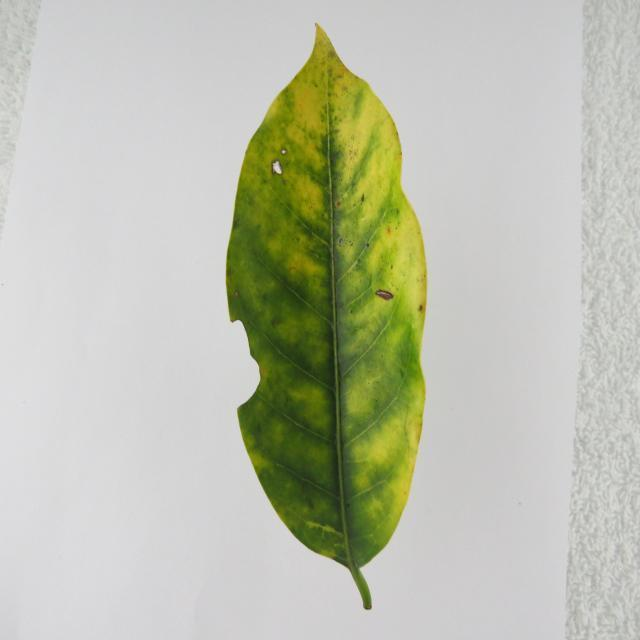DeficienciaNutricional-Nitrogeno: (226, 25, 426, 610)
